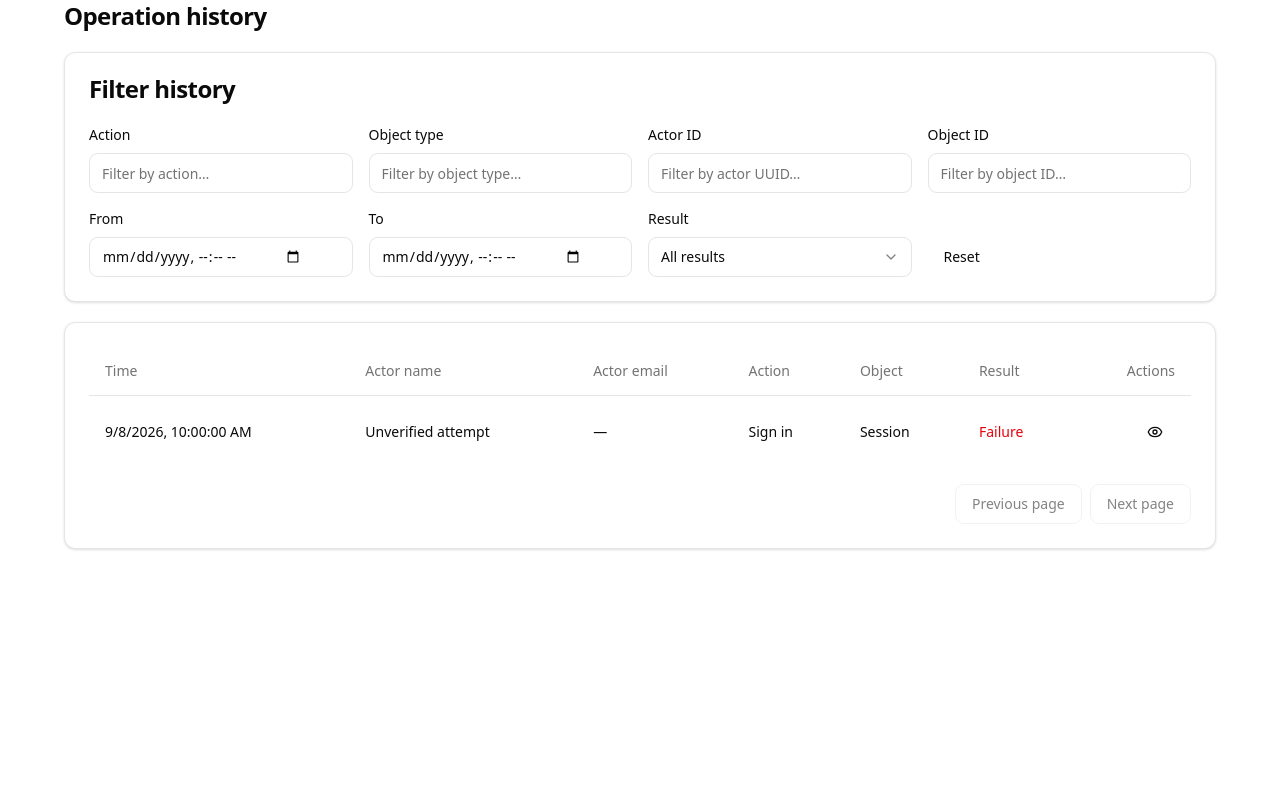
it: readable operation details › explains failed unverified attempts without treating the email as an identity
This screenshot has width=1280, height=800.
Step 1. Click the button named "View operation details" → (1155, 432), box [1135,412,1175,452]
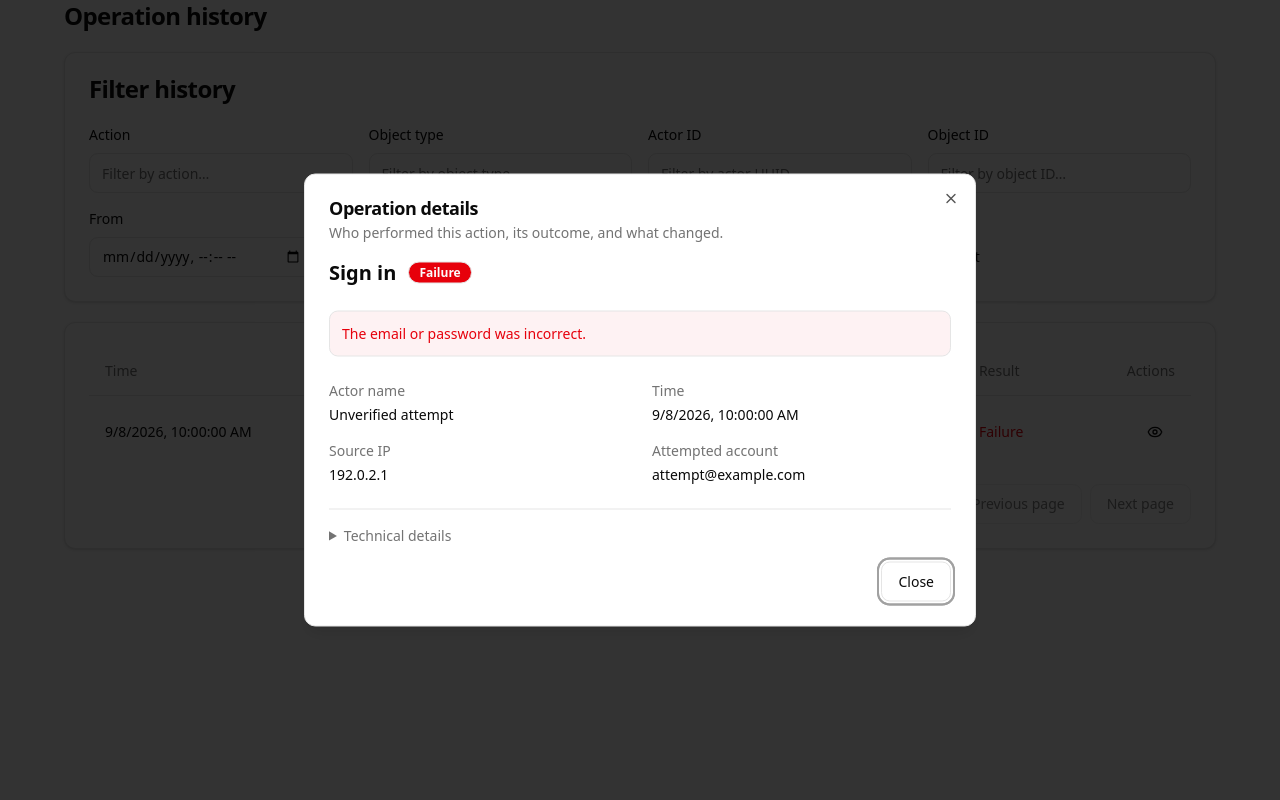
Check: the text "Unverified attempt" is shown 2 times, box [349,395,577,468]; [329,404,454,424]
Check: the text "The email or password was incorrect." is shown, box [329,310,951,356]
Check: the text "attempt@example.com" is shown, box [652,464,805,484]
